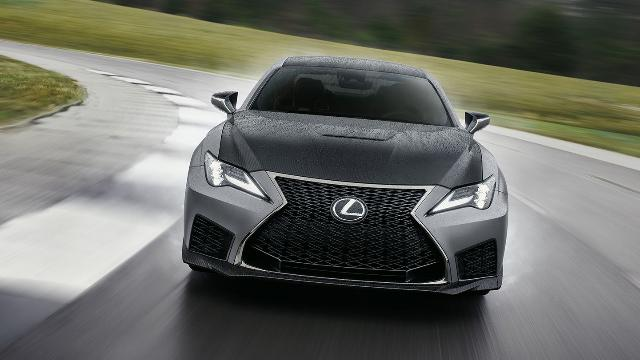lexus: (182, 56, 510, 300)
